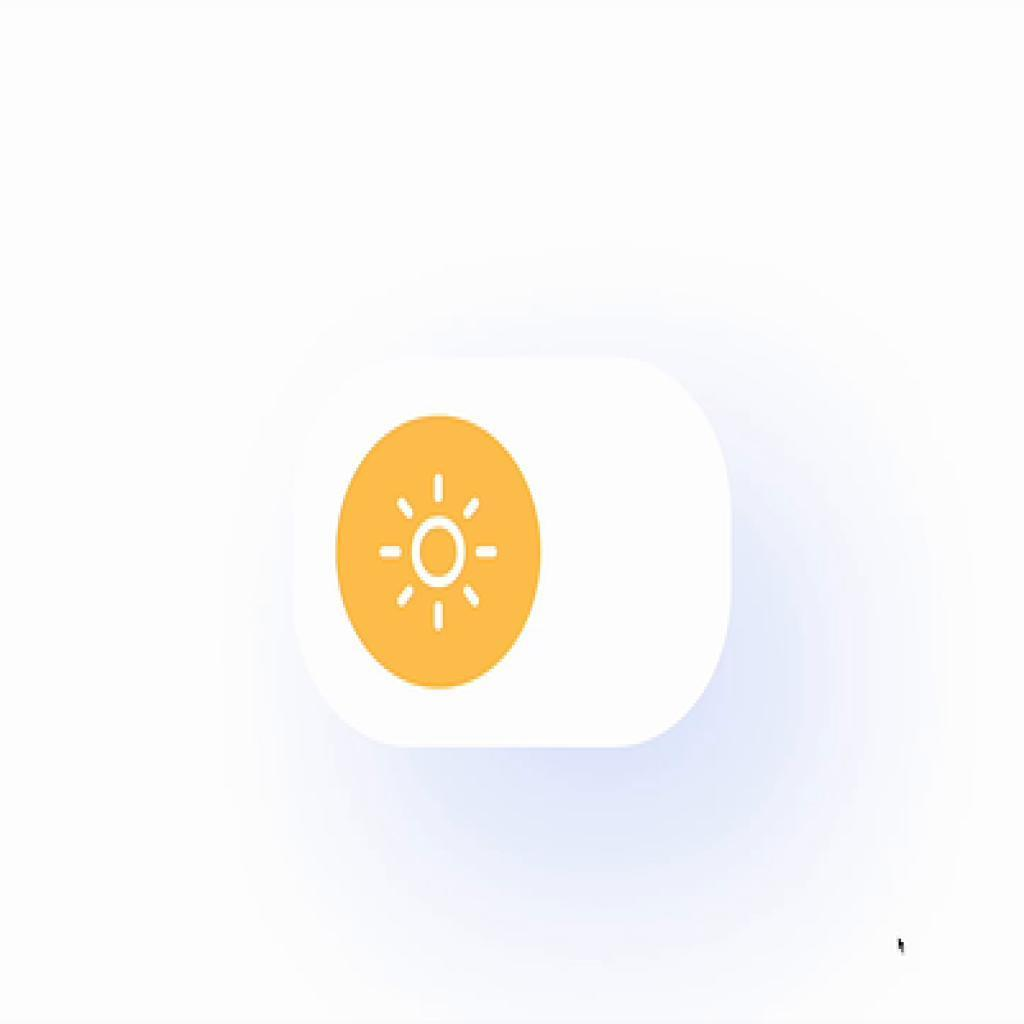switch: (293, 359, 733, 746)
